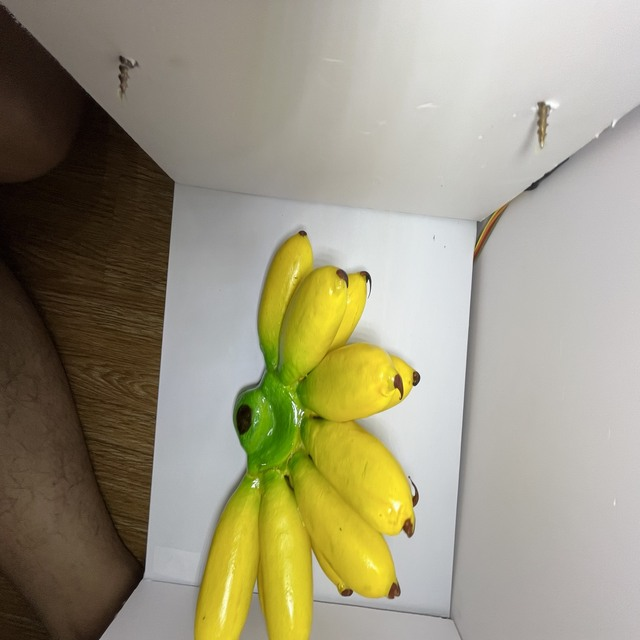Chuoi: (193, 231, 432, 640)
